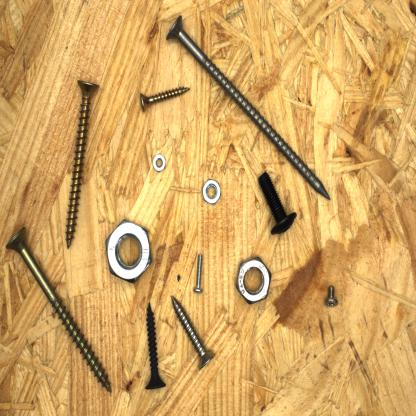screw: (164, 11, 335, 203), (4, 222, 115, 398), (64, 77, 102, 254), (169, 292, 218, 374), (254, 168, 300, 238), (142, 299, 168, 394), (136, 83, 193, 114), (190, 250, 205, 295), (322, 283, 342, 310)
